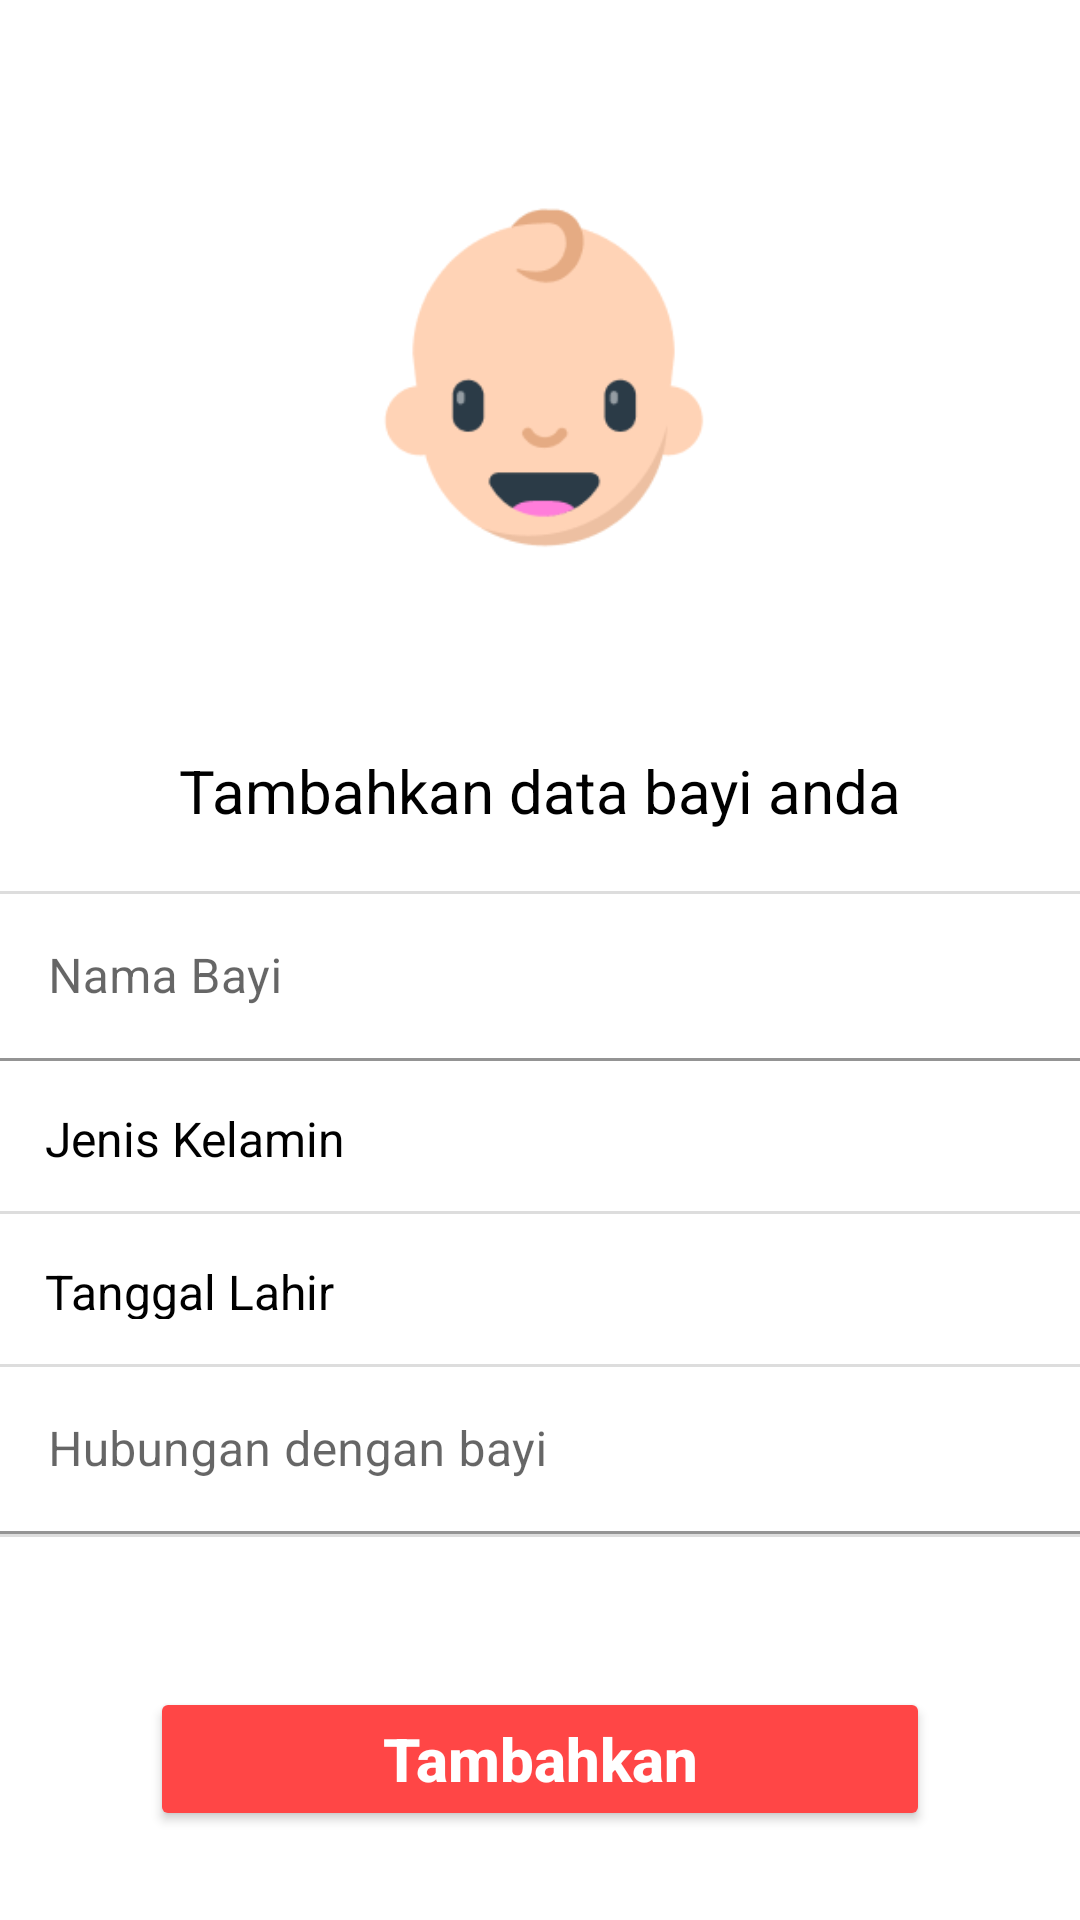

Screen size 1080px x 1920px. Icon name, then its box in pixels as (x1, y1, x2, y2):
baby: (385, 208, 703, 546)
